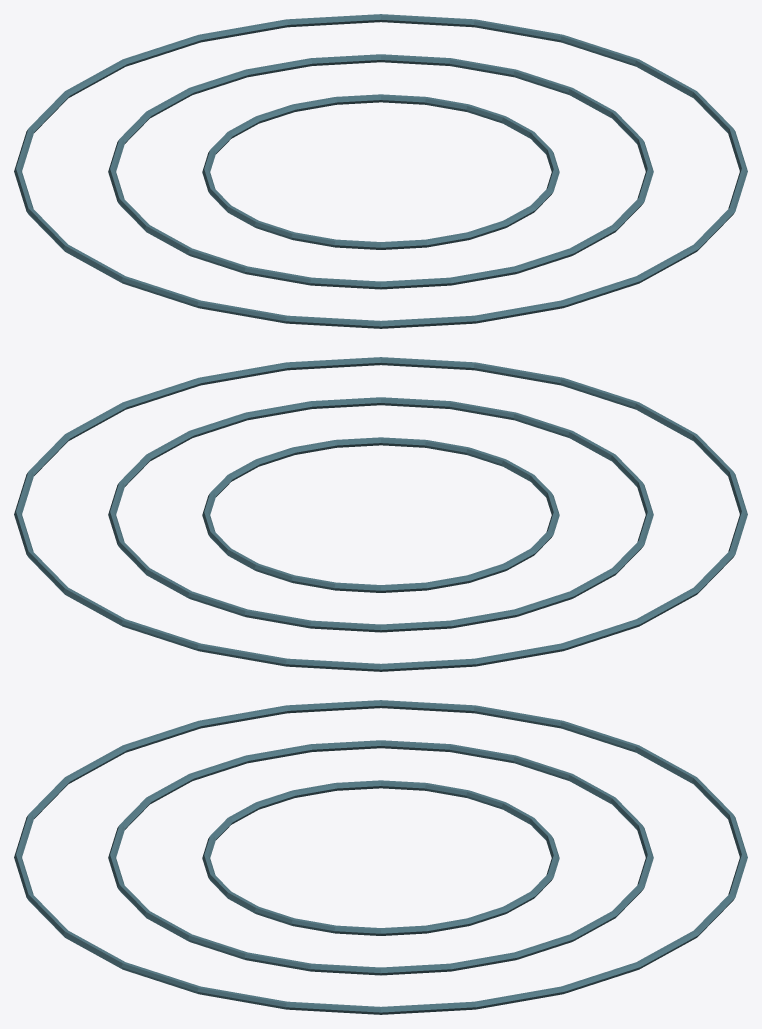
The picture shows the model from 3 angles, top to bottom: view 1: azimuth 30°, elevation 25°; view 2: azimuth 150°, elevation 25°; view 3: azimuth 270°, elevation 25°; orthographic projection.
Parts seen in each view (by area): view 1: PUDDLE_Ripple, PUDDLE_Ripple.002, PUDDLE_Ripple.001; view 2: PUDDLE_Ripple, PUDDLE_Ripple.002, PUDDLE_Ripple.001; view 3: PUDDLE_Ripple, PUDDLE_Ripple.002, PUDDLE_Ripple.001.
Boxes of the visible parts, box(x1,y1,x2,y2) form: PUDDLE_Ripple: box(14, 14, 747, 328); PUDDLE_Ripple.002: box(108, 54, 653, 289); PUDDLE_Ripple.001: box(202, 94, 559, 249); PUDDLE_Ripple: box(14, 357, 747, 671); PUDDLE_Ripple.002: box(108, 397, 653, 632); PUDDLE_Ripple.001: box(202, 437, 559, 592); PUDDLE_Ripple: box(14, 700, 747, 1014); PUDDLE_Ripple.002: box(108, 740, 653, 975); PUDDLE_Ripple.001: box(202, 780, 559, 935).
Size of what is drawn, in the model's own units: 0.546 by 0.0058 by 0.546.
